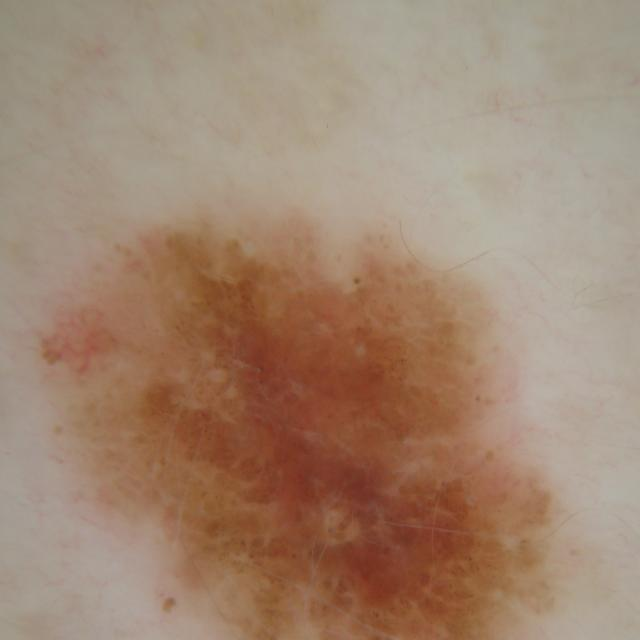Melanoma: (28, 184, 607, 640)
